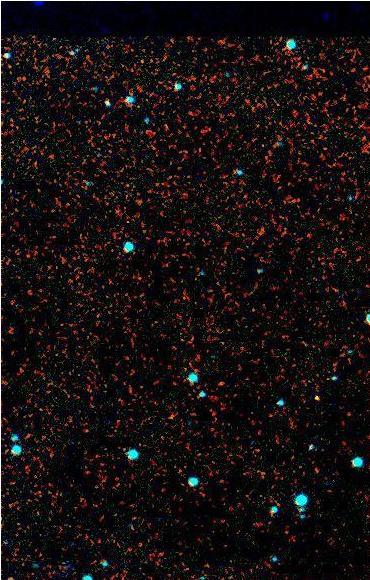star: (302, 381, 332, 411)
